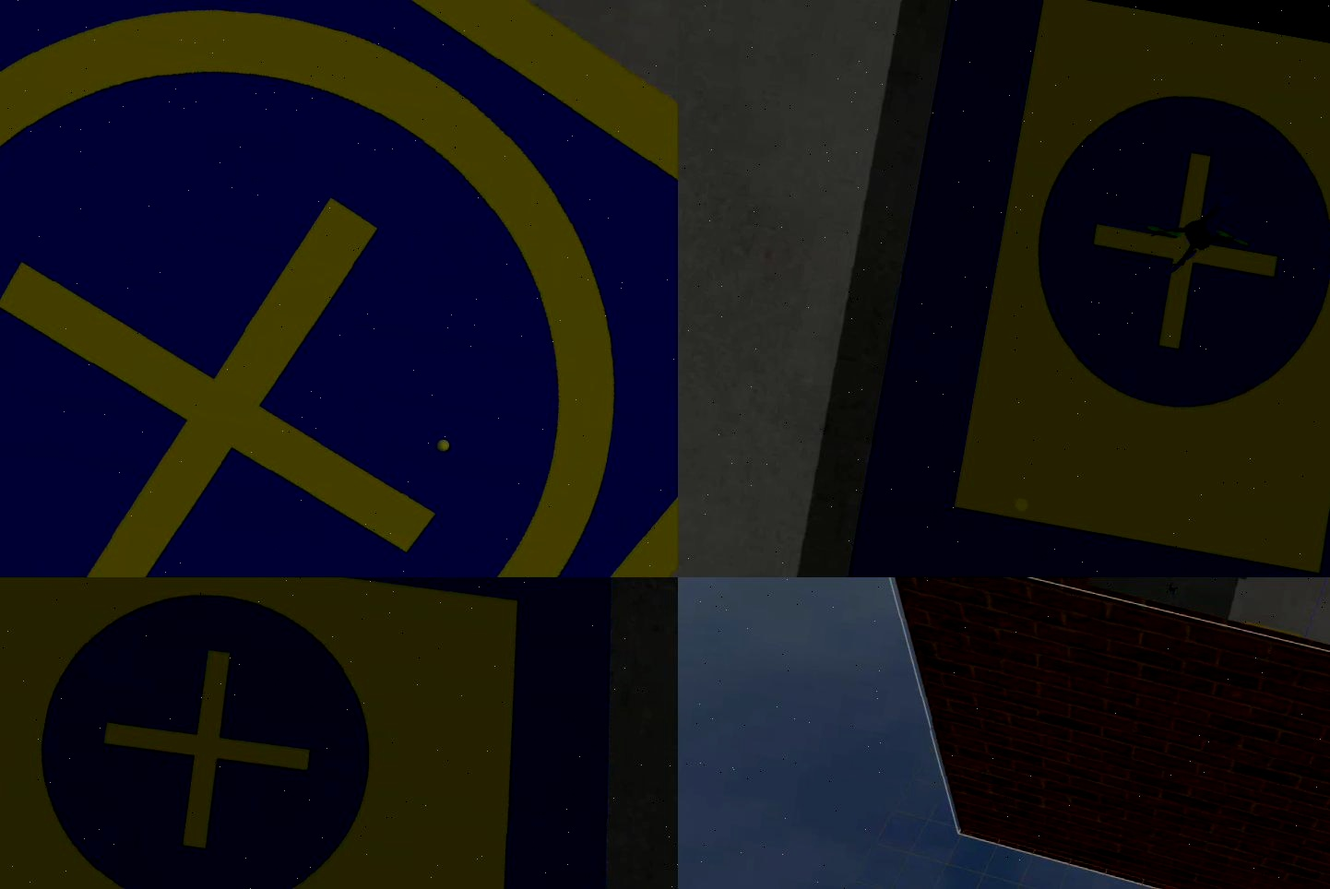large_base: (845, 1, 1330, 578), (1, 578, 678, 889)
small_base: (1, 1, 678, 578)
